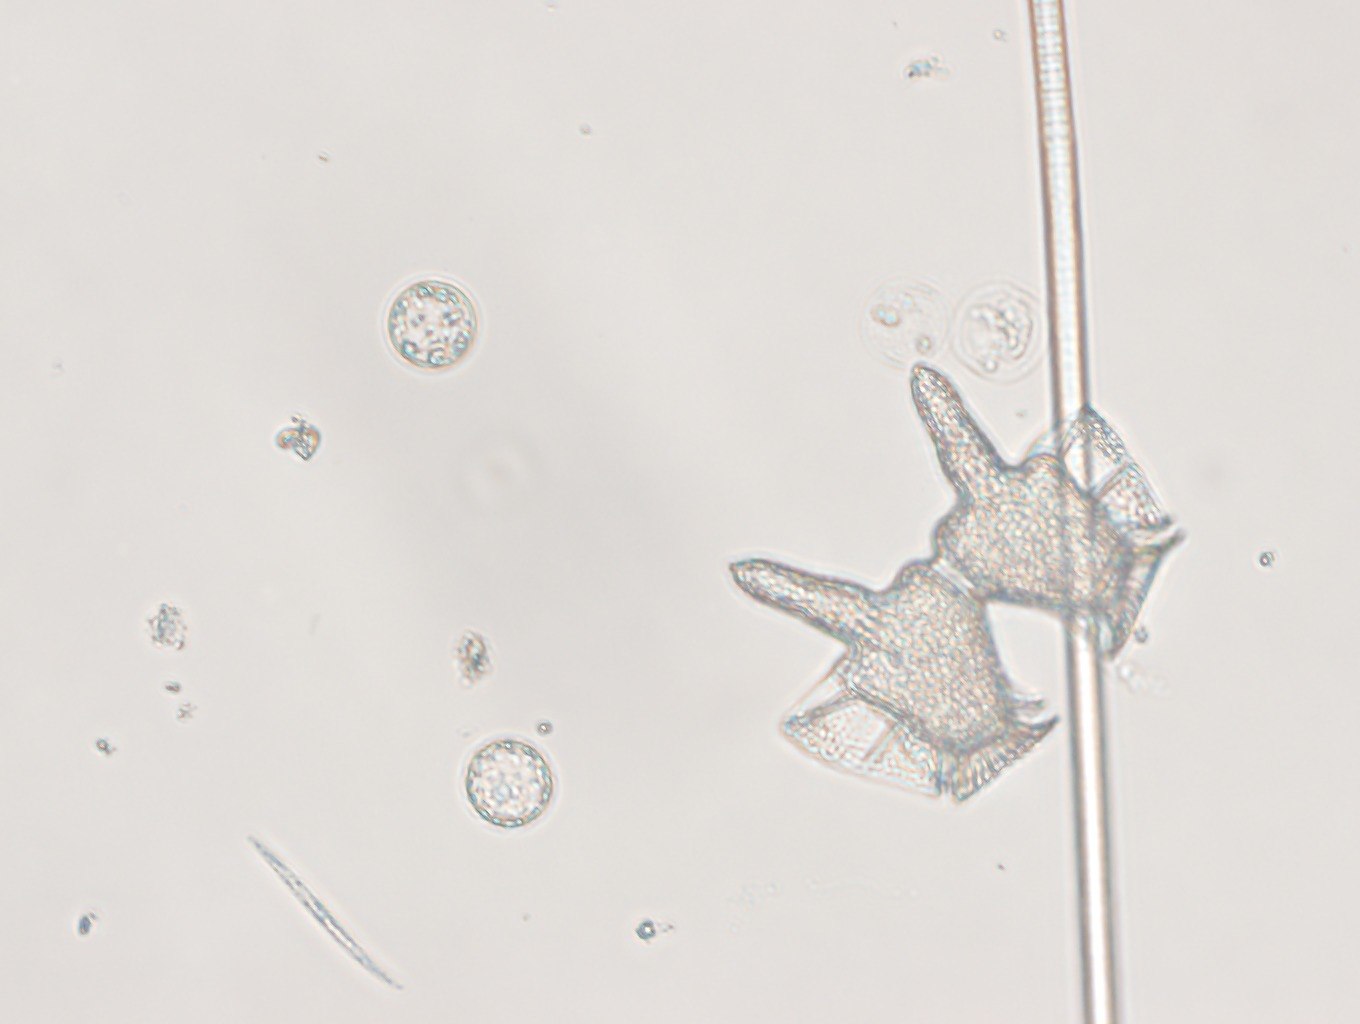dinophysis caudata: (695, 344, 1201, 816)
pleurosigma pelagicum: (241, 822, 409, 1007)
